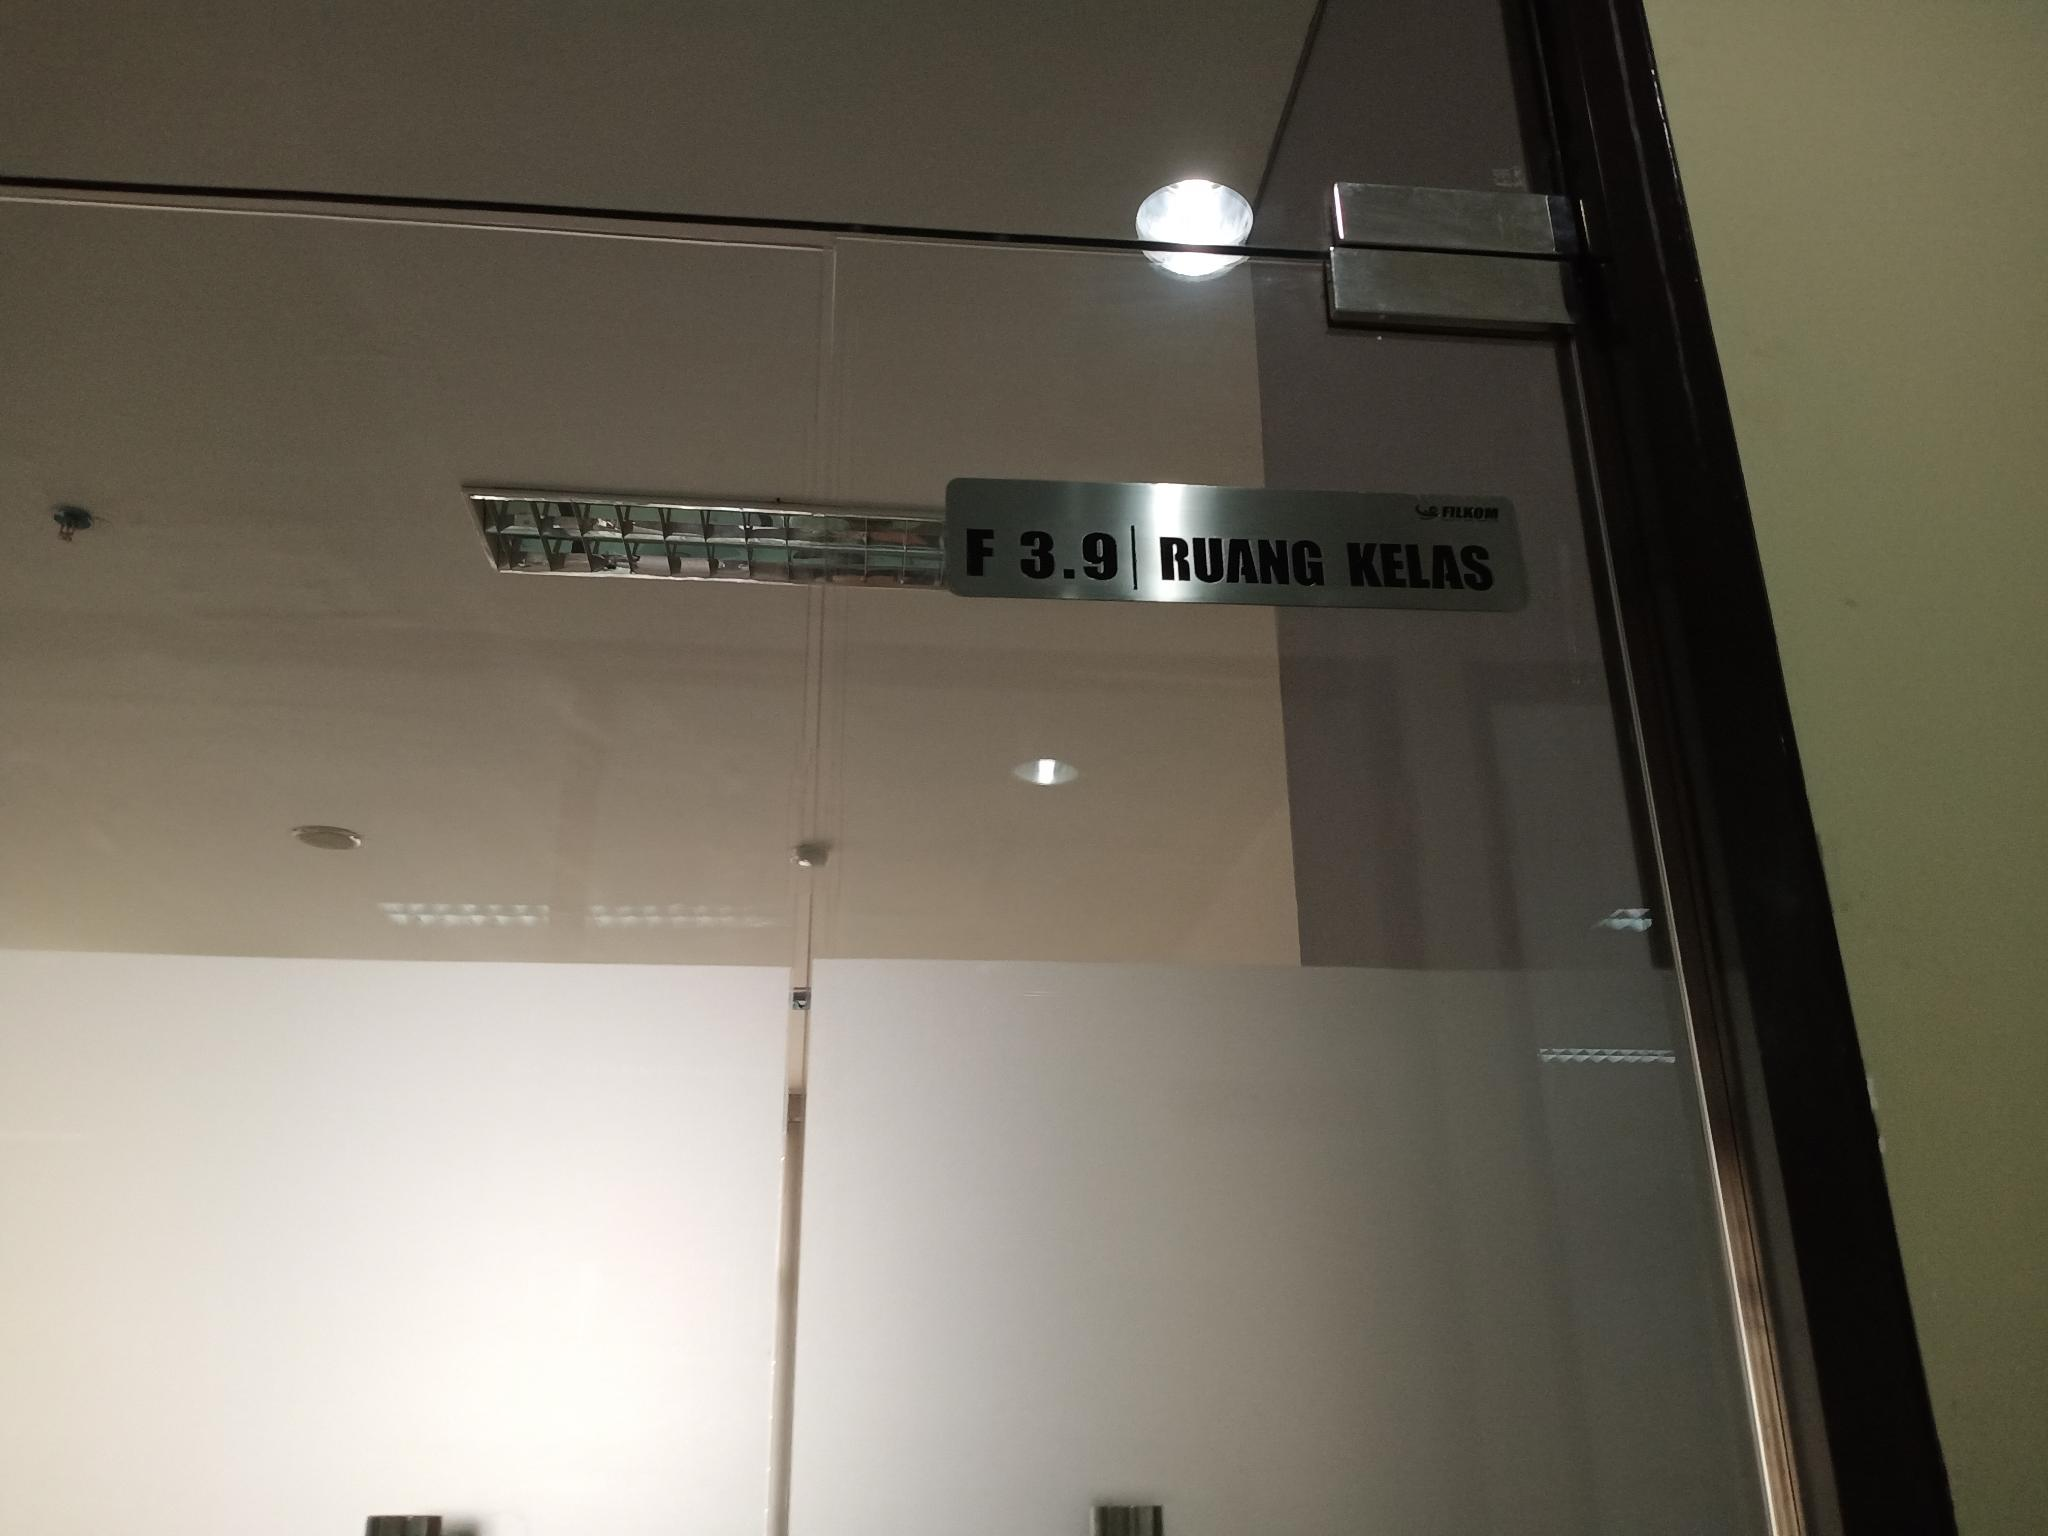plate: (943, 474, 1526, 611)
